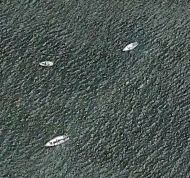boat: (44, 133, 70, 148), (122, 41, 141, 53), (39, 59, 55, 68)
